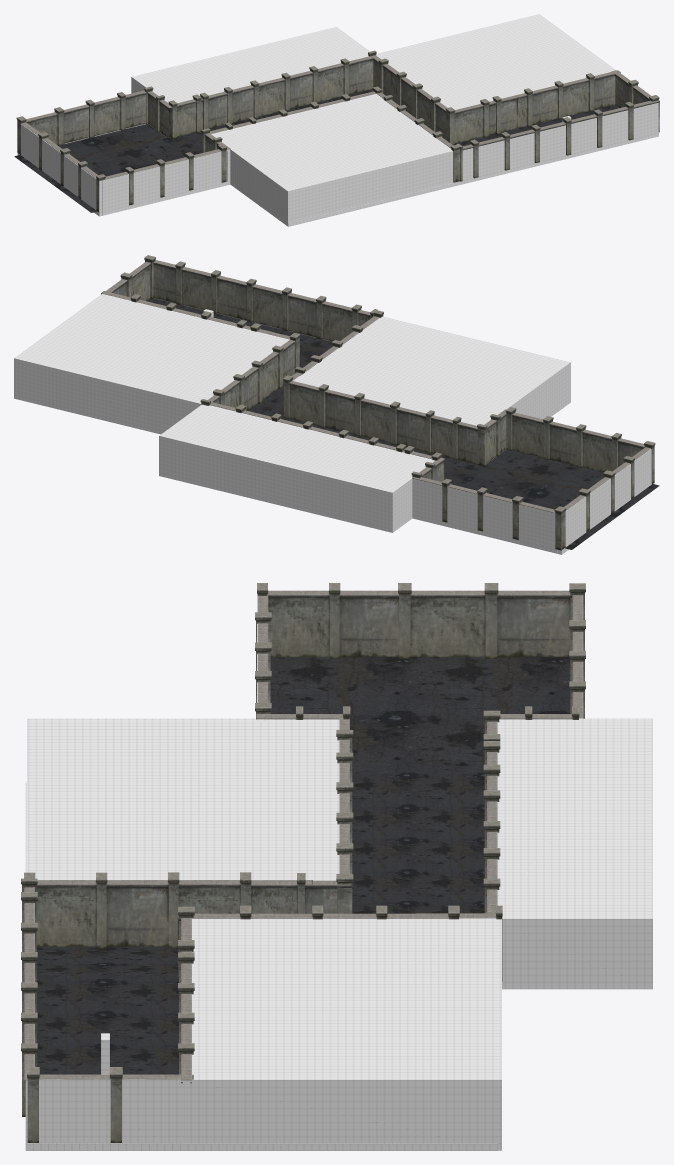
File: Stage.fbx
3 renders of one model, top to bottom at view 1: azimuth 30°, elevation 25°; view 2: azimuth 150°, elevation 25°; view 3: azimuth 270°, elevation 25°, orthographic. The views are drawn at different scales.
Visible parts, largest first — view 1: Cube__8_, Cube__5_, Cube__9_, Cube__3_, Road_set_v1_b_floor__9_, Cube__11_, Cube__12_, Concrete_fence_v1_wall_set_v1__5_, Concrete_fence_v1_wall_set_v1__17_, Concrete_fence_v1_wall_set_v1__18_, Concrete_fence_v1_wall_set_v1__3_, Concrete_fence_v1_wall_set_v1__23_ (+21 smaller); view 2: Cube__5_, Cube__9_, Cube__8_, Road_set_v1_b_floor__9_, Cube__10_, Cube__12_, Concrete_fence_v1_wall_set_v1, Concrete_fence_v1_wall_set_v1__9_, Concrete_fence_v1_wall_set_v1__28_, Concrete_fence_v1_wall_set_v1__12_, Concrete_fence_v1_wall_set_v1__1_, Concrete_fence_v1_wall_set_v1__6_ (+15 smaller); view 3: Cube__5_, Cube__8_, Cube__9_, Road_set_v1_b_floor__9_, Concrete_fence_v1_wall_set_v1__25_, Road_set_v1_b_floor__6_, Concrete_fence_v1_wall_set_v1__8_, Concrete_fence_v1_wall_set_v1__26_, Road_set_v1_b_floor, Cube__7_, Road_set_v1_b_floor__1_, Road_set_v1_b_floor__5_ (+22 smaller).
Part boxes in pixels (x1,y1,x2,y2): Cube__8_: (211, 93, 453, 226); Cube__5_: (376, 14, 615, 109); Cube__9_: (131, 27, 369, 102); Cube__3_: (456, 102, 658, 182); Road_set_v1_b_floor__9_: (14, 124, 185, 212); Cube__11_: (102, 149, 230, 215); Cube__12_: (17, 124, 102, 216); Concrete_fence_v1_wall_set_v1__5_: (445, 97, 518, 144); Concrete_fence_v1_wall_set_v1__17_: (309, 56, 373, 103); Concrete_fence_v1_wall_set_v1__18_: (250, 71, 312, 118); Concrete_fence_v1_wall_set_v1__3_: (554, 70, 620, 119); Concrete_fence_v1_wall_set_v1__23_: (85, 90, 146, 138); Cube__5_: (14, 294, 289, 434); Cube__9_: (159, 404, 434, 532); Cube__8_: (293, 316, 570, 425); Road_set_v1_b_floor__9_: (458, 449, 659, 549); Cube__10_: (410, 476, 557, 553); Cube__12_: (558, 449, 654, 554); Concrete_fence_v1_wall_set_v1: (217, 275, 291, 331); Concrete_fence_v1_wall_set_v1__9_: (283, 375, 354, 434); Concrete_fence_v1_wall_set_v1__28_: (505, 407, 576, 465); Concrete_fence_v1_wall_set_v1__12_: (354, 392, 426, 451); Concrete_fence_v1_wall_set_v1__1_: (153, 260, 220, 313); Concrete_fence_v1_wall_set_v1__6_: (288, 293, 361, 341); Cube__5_: (183, 918, 501, 1150); Cube__8_: (27, 718, 339, 880); Cube__9_: (497, 718, 652, 989); Road_set_v1_b_floor__9_: (270, 657, 570, 772); Concrete_fence_v1_wall_set_v1__25_: (398, 583, 571, 658); Road_set_v1_b_floor__6_: (36, 979, 178, 1044); Concrete_fence_v1_wall_set_v1__8_: (24, 872, 168, 948); Concrete_fence_v1_wall_set_v1__26_: (257, 583, 398, 658); Road_set_v1_b_floor: (352, 772, 484, 837); Cube__7_: (33, 1079, 183, 1143); Road_set_v1_b_floor__1_: (352, 837, 484, 900); Road_set_v1_b_floor__5_: (36, 947, 178, 979).
Size of the model in its own units: 15188 by 1108 by 8165.
3 materials, 3 textured.
